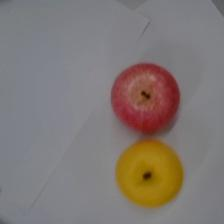red: (111, 63, 180, 133)
yellow: (115, 140, 184, 208)
